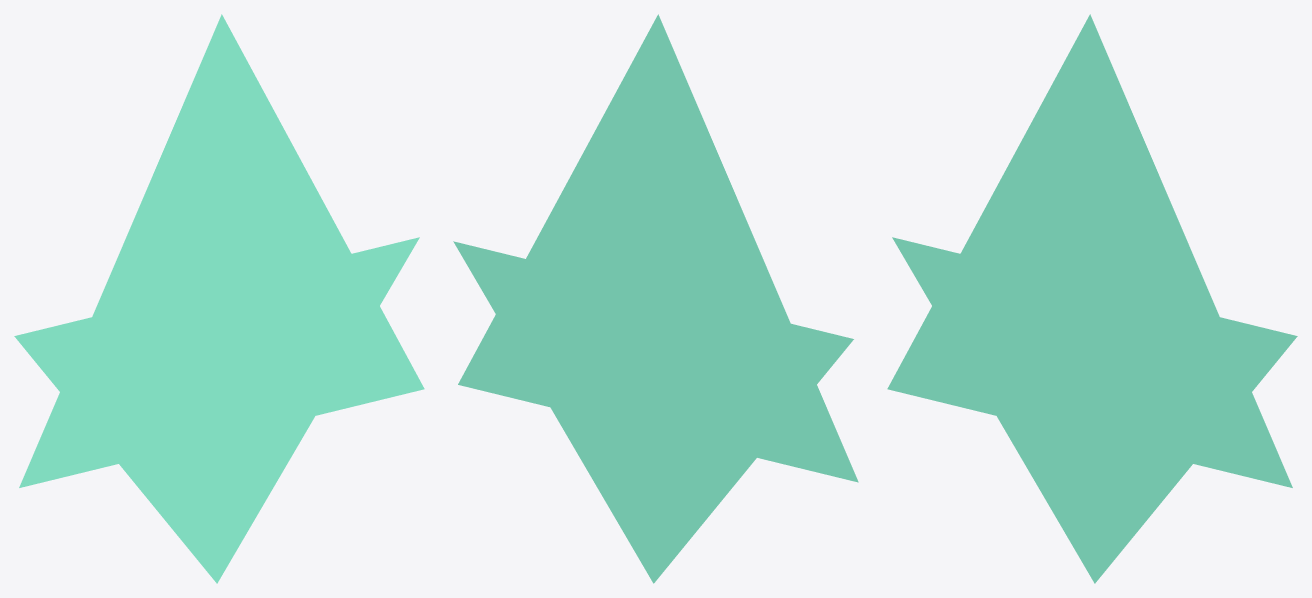
3 renders of one model, left to right at view 1: azimuth 30°, elevation 25°; view 2: azimuth 150°, elevation 25°; view 3: azimuth 330°, elevation 25°, orthographic.
Visible parts, largest first — view 1: HQ roof, HQ base; view 2: HQ base, HQ roof; view 3: HQ roof, HQ base.
Part boxes in pixels (box(x1,y1,x2,y2)): HQ roof: box(19, 14, 424, 487); HQ base: box(14, 237, 419, 583); HQ base: box(453, 241, 853, 583); HQ roof: box(458, 14, 858, 482); HQ roof: box(887, 14, 1292, 487); HQ base: box(892, 237, 1297, 583).
Size of the model in its own units: 1 by 1.35 by 0.02.
